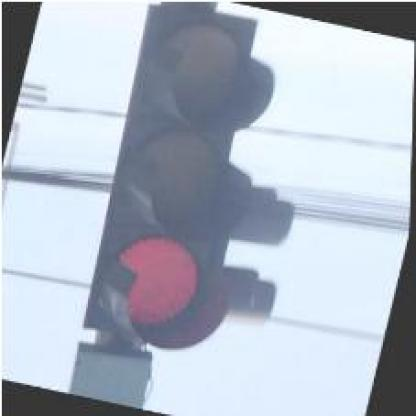red: (71, 0, 296, 363)
